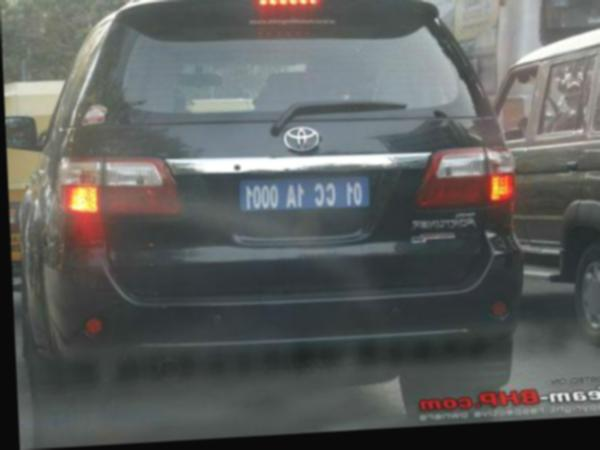License_Plate: (235, 170, 375, 214)
